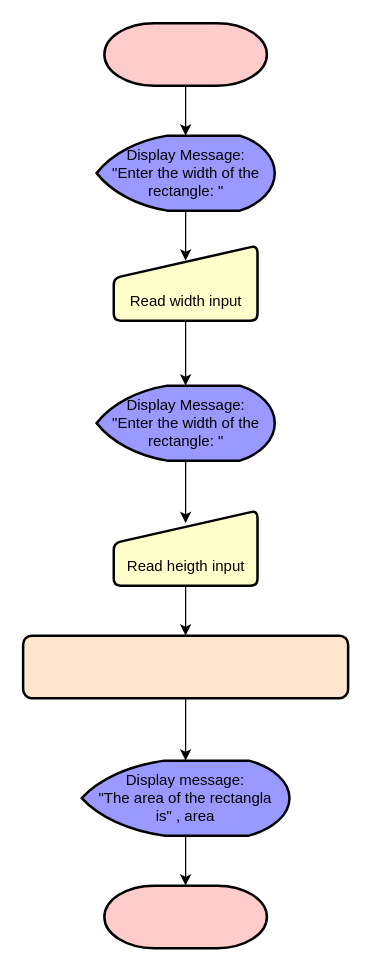
Some shapes in this 370 by 970 pixel diagram are drawn without their labels. The shapes that lost their labels are listed below. From the top down, each one's centre as x and y in pixels, then its label:
(185,53): Start
(185,666): Calculat area: area = width * height
(185,916): End
